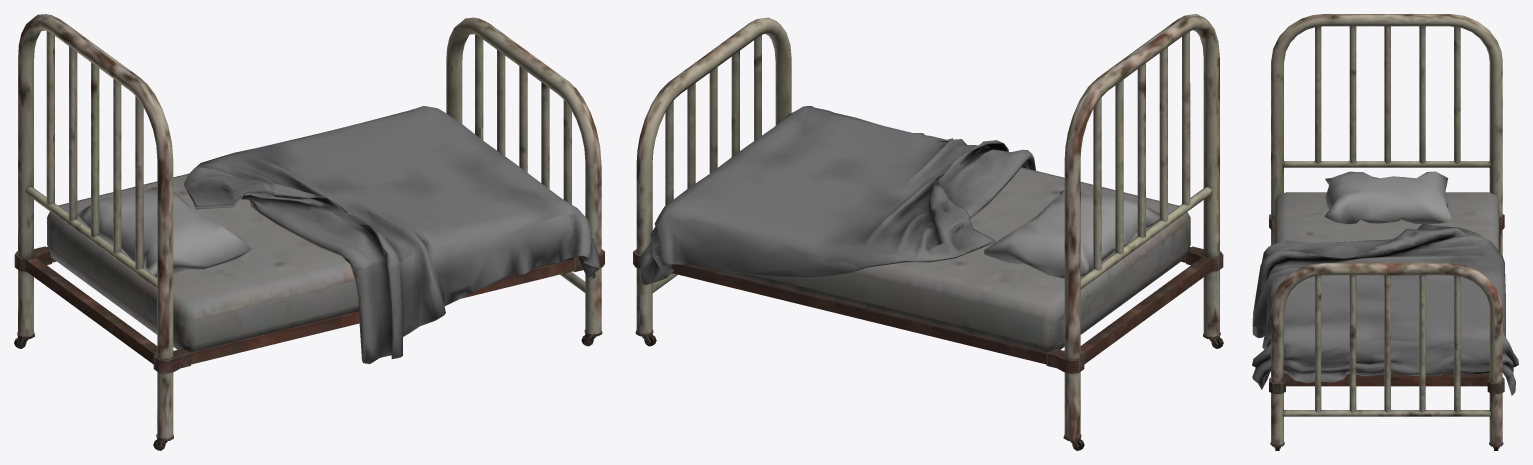
File: hospital-bed.gltf
The picture shows the model from 3 angles, left to right: view 1: azimuth 30°, elevation 25°; view 2: azimuth 150°, elevation 25°; view 3: azimuth 270°, elevation 25°; orthographic projection. The views are drawn at different scales.
Parts seen in each view (by area): view 1: low_Pillow_1_bed_0, low_Pillow_1_lagen_0, low_Pillow_1_pillow_0; view 2: low_Pillow_1_bed_0, low_Pillow_1_lagen_0, low_Pillow_1_pillow_0; view 3: low_Pillow_1_bed_0, low_Pillow_1_lagen_0, low_Pillow_1_pillow_0.
Part boxes in pixels (box(x1,y1,x2,y2)): low_Pillow_1_bed_0: box(14, 14, 604, 450); low_Pillow_1_lagen_0: box(184, 106, 599, 363); low_Pillow_1_pillow_0: box(77, 187, 251, 277); low_Pillow_1_bed_0: box(633, 14, 1223, 450); low_Pillow_1_lagen_0: box(639, 106, 1035, 284); low_Pillow_1_pillow_0: box(984, 190, 1159, 278); low_Pillow_1_bed_0: box(1269, 14, 1504, 450); low_Pillow_1_lagen_0: box(1252, 223, 1518, 395); low_Pillow_1_pillow_0: box(1324, 171, 1450, 224).
Size of the model in its own units: 1.47 by 1.1 by 0.9688.
Materials: 3 (2 with a texture image).
